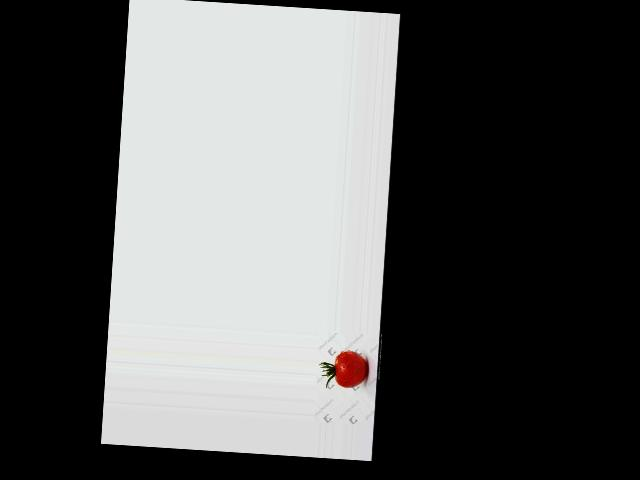tomato: (334, 350, 368, 389)
